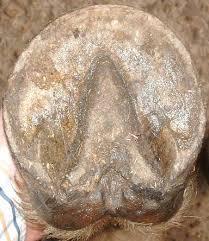horsesole: (2, 4, 206, 186)
